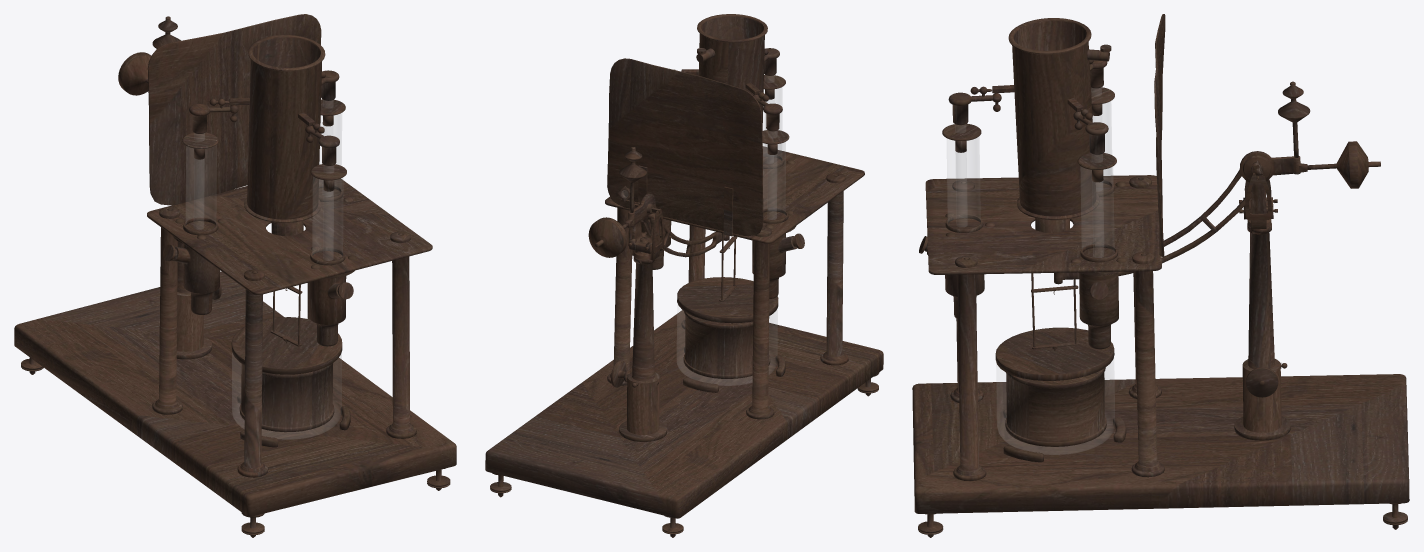
The model's file is electrometre.glb.
3 views of the same model, side by side, from view 1: azimuth 30°, elevation 25°; view 2: azimuth 150°, elevation 25°; view 3: azimuth 270°, elevation 25° (orthographic). The views are drawn at different scales.
Visible parts, largest first — view 1: Object_2; view 2: Object_2; view 3: Object_2.
Boxes of the visible parts, x1,y1,x2,y2 form: Object_2: (14,14,456,537); Object_2: (485,14,883,537); Object_2: (912,14,1409,537).
Bounding box in the file's own units: 0.2794 × 0.5221 × 0.5181.
2 materials, 1 textured.
